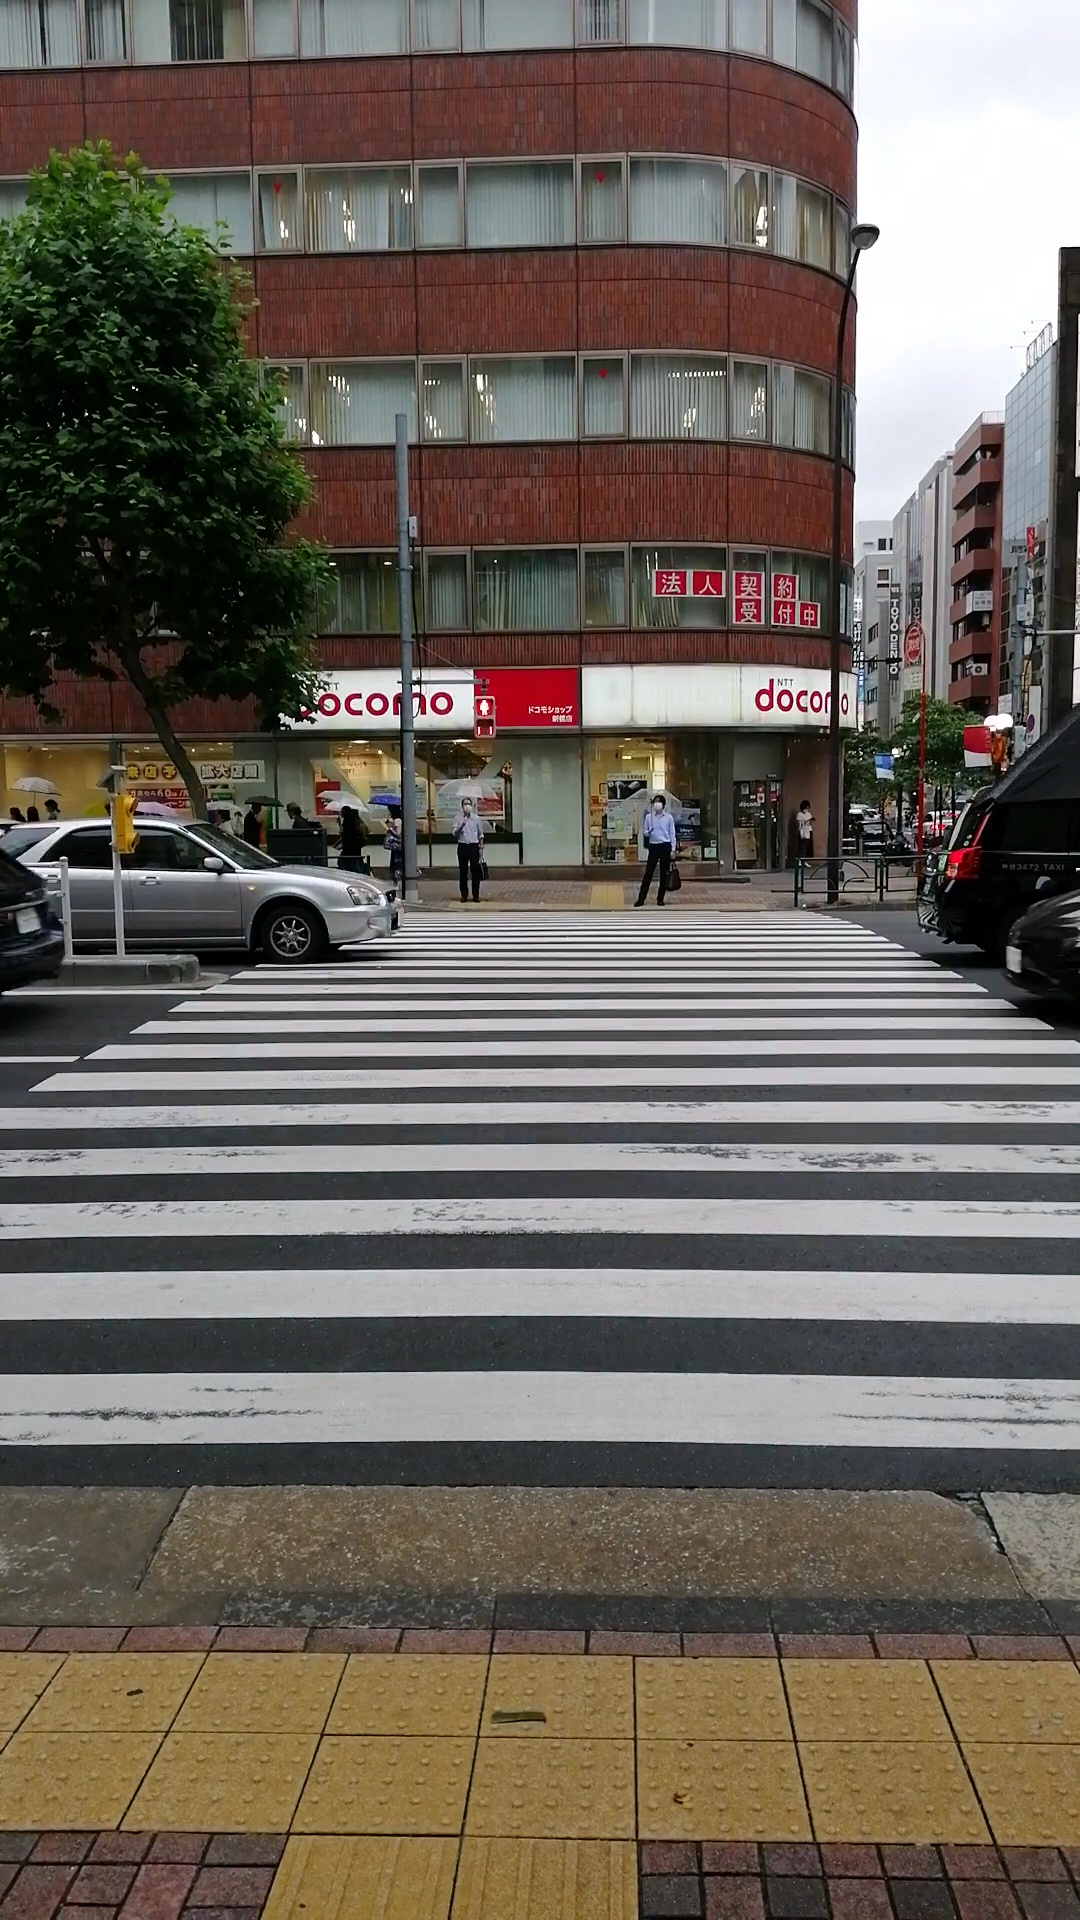red: (473, 694, 495, 738)
